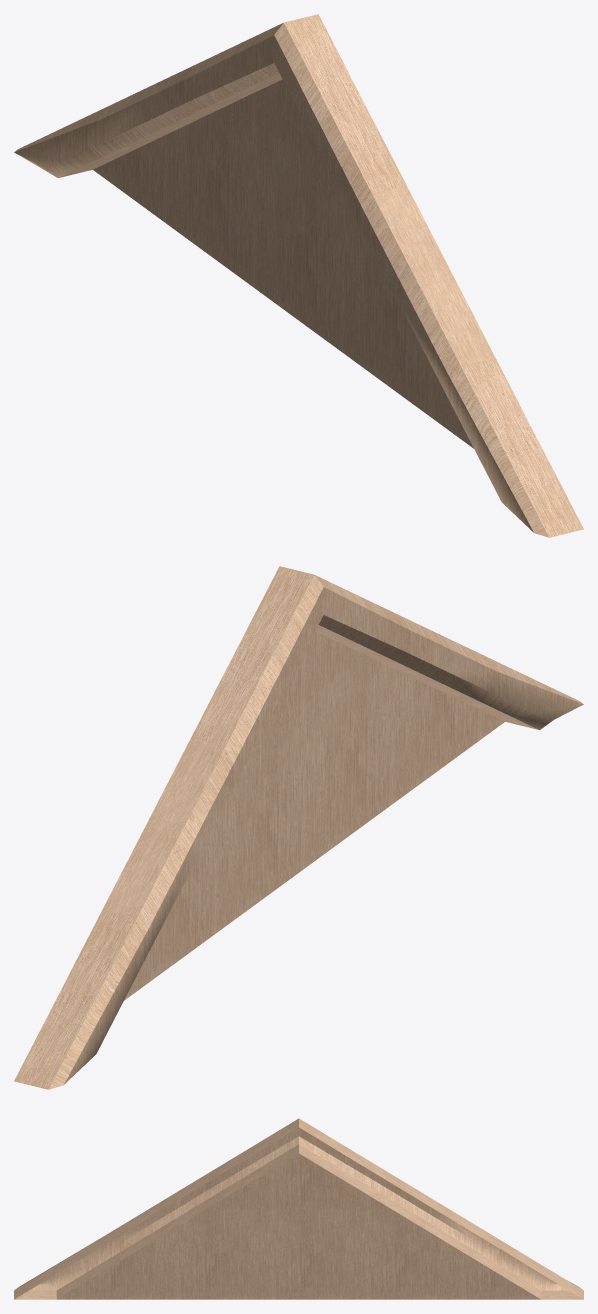
File: house_front_top.FBX
3 renders of one model, top to bottom at view 1: azimuth 30°, elevation 25°; view 2: azimuth 150°, elevation 25°; view 3: azimuth 270°, elevation 25°, orthographic. The views are drawn at different scales.
Parts seen in each view (by area): view 1: front3; view 2: front3; view 3: front3.
Part boxes in pixels (x1,y1,x2,y2): front3: [14, 14, 583, 537]; front3: [14, 566, 583, 1089]; front3: [14, 1118, 583, 1299].
Bounding box in the file's own units: 2.89 × 20 × 60.
